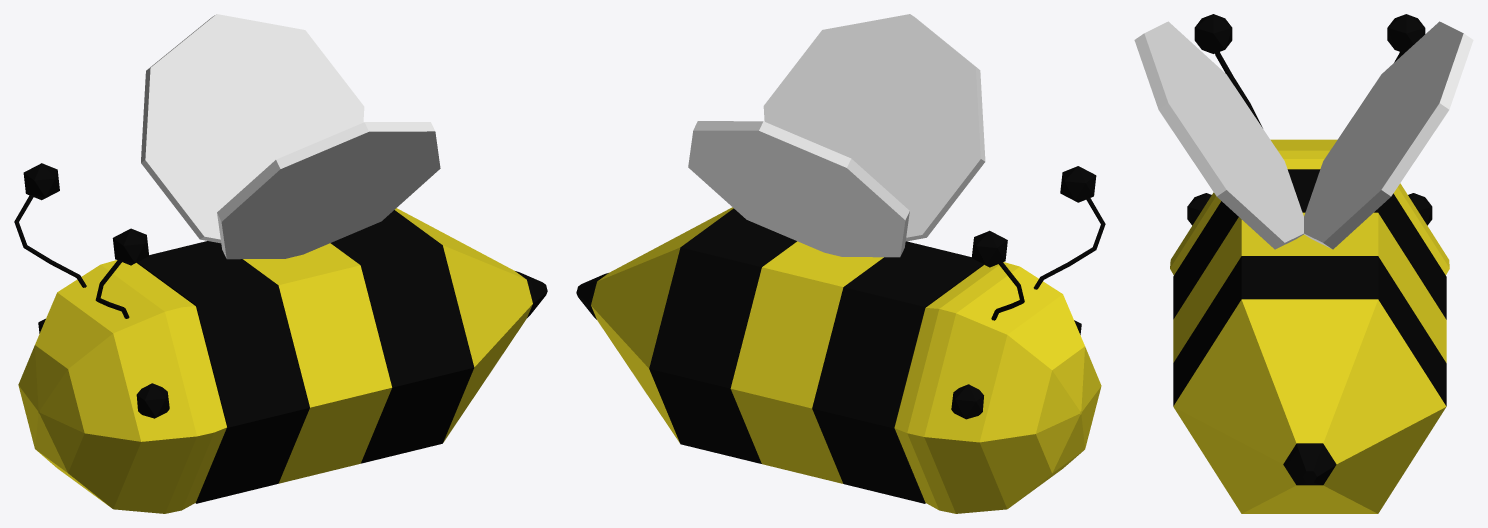
Rendered from bee.gltf.
3 renders of one model, left to right at view 1: azimuth 30°, elevation 25°; view 2: azimuth 150°, elevation 25°; view 3: azimuth 270°, elevation 25°, orthographic. The views are drawn at different scales.
Visible parts, largest first — view 1: Bee; view 2: Bee; view 3: Bee.
Boxes of the visible parts, left/top/right/bottom form: Bee: left=14, top=14, right=547, bottom=513; Bee: left=576, top=14, right=1105, bottom=513; Bee: left=1134, top=14, right=1473, bottom=513.
Size of the model in its own units: 4.61 by 3.38 by 2.48.
